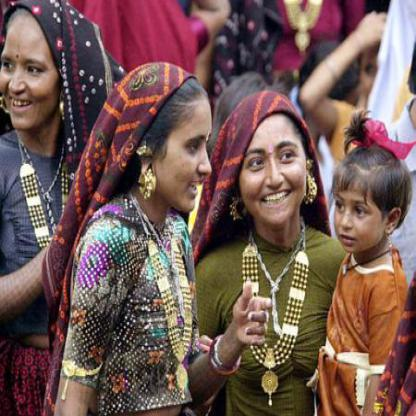face: (237, 97, 309, 228), (153, 81, 222, 216), (1, 3, 66, 133), (331, 151, 394, 257)
